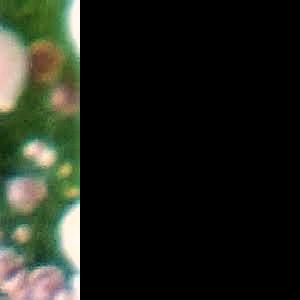Linfa: (13, 219, 32, 246), (19, 134, 40, 155), (37, 147, 57, 167)
